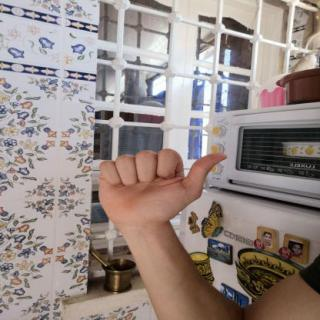DAD: (87, 141, 236, 234)
